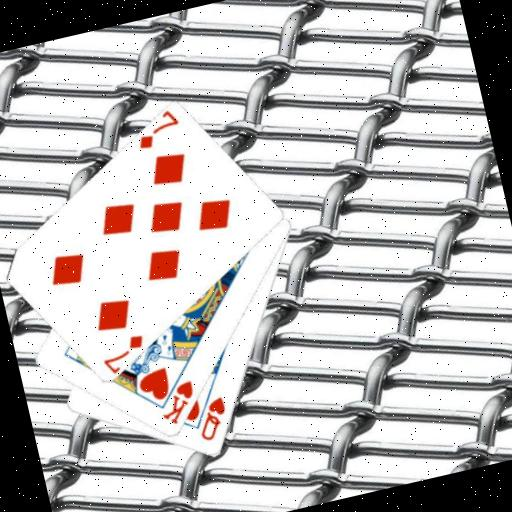7D: (96, 330, 152, 377), (129, 107, 185, 153)
KH: (153, 377, 203, 430)
QH: (190, 393, 234, 445)
